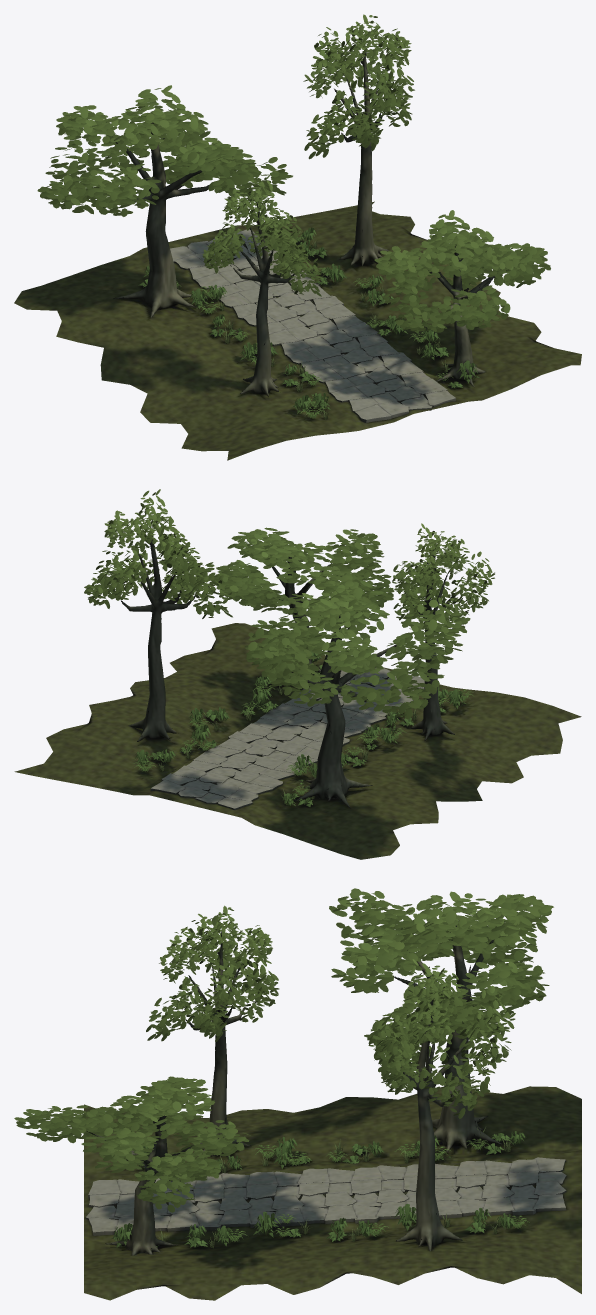
Rendered from forest-patch.glb.
The picture shows the model from 3 angles, top to bottom: view 1: azimuth 30°, elevation 25°; view 2: azimuth 150°, elevation 25°; view 3: azimuth 270°, elevation 25°; orthographic projection. The views are drawn at different scales.
Parts seen in each view (by area): view 1: ForestPatch_Ground, ForestPatch_Foliage, ForestPatch_Stone, ForestPatch_Wood; view 2: ForestPatch_Ground, ForestPatch_Foliage, ForestPatch_Stone, ForestPatch_Wood; view 3: ForestPatch_Foliage, ForestPatch_Ground, ForestPatch_Stone, ForestPatch_Wood.
Boxes of the visible parts, <box> form: ForestPatch_Ground: <box>14,201,581,460</box>; ForestPatch_Foliage: <box>37,14,550,419</box>; ForestPatch_Stone: <box>170,229,456,422</box>; ForestPatch_Wood: <box>113,44,506,396</box>; ForestPatch_Ground: <box>14,623,581,859</box>; ForestPatch_Foliage: <box>84,489,494,806</box>; ForestPatch_Stone: <box>150,667,424,809</box>; ForestPatch_Wood: <box>121,526,456,808</box>; ForestPatch_Foliage: <box>14,888,553,1248</box>; ForestPatch_Ground: <box>84,1086,581,1300</box>; ForestPatch_Stone: <box>85,1157,566,1235</box>; ForestPatch_Wood: <box>86,925,503,1255</box>.
Size of what is drawn, in the model's own units: 19.31 by 13.42 by 21.67.
2 materials, 1 textured.
